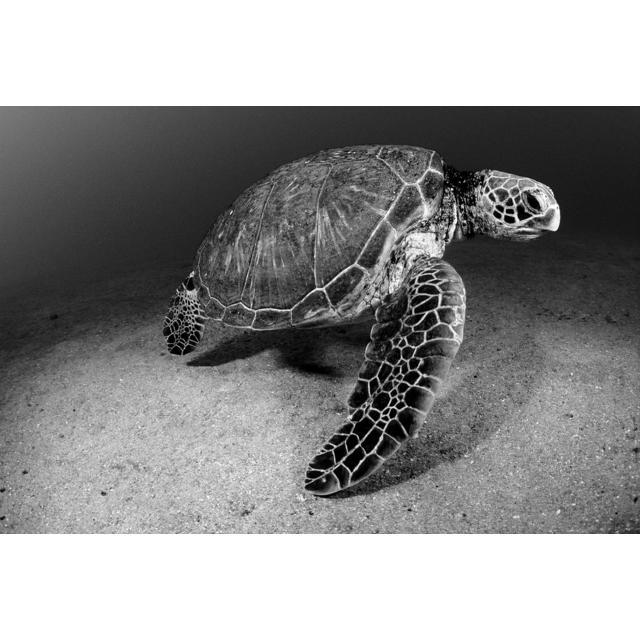turtle: (161, 143, 564, 500)
